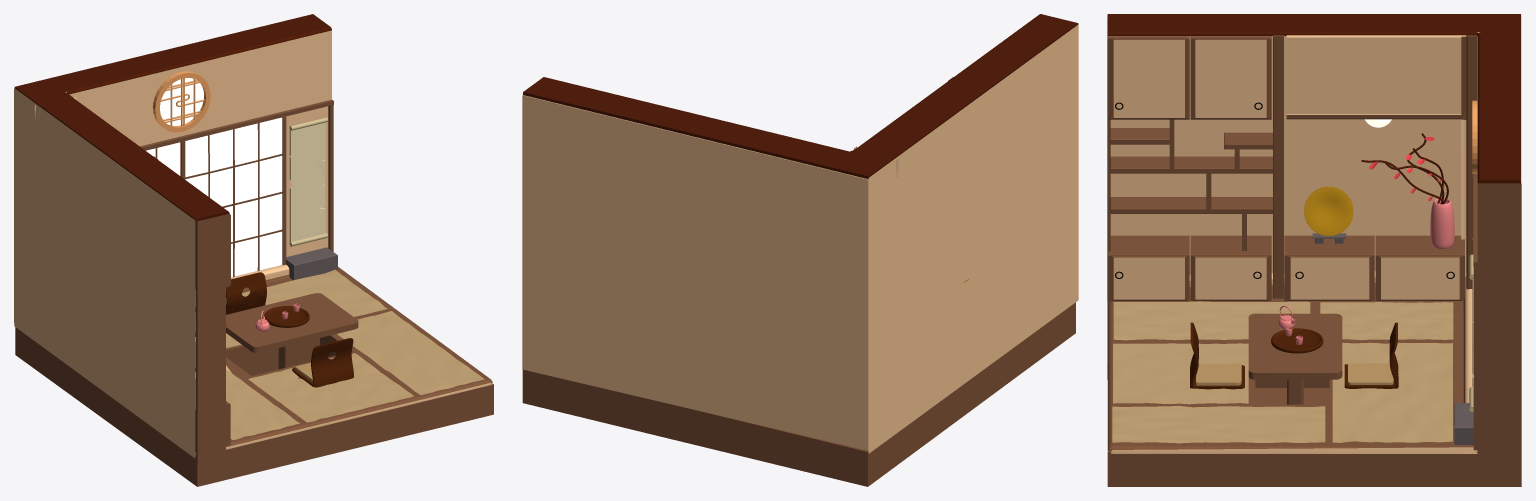
Rendered from japanese_tatami_room.glb.
The picture shows the model from 3 angles, left to right: view 1: azimuth 30°, elevation 25°; view 2: azimuth 150°, elevation 25°; view 3: azimuth 270°, elevation 25°; orthographic projection. The views are drawn at different scales.
Parts seen in each view (by area): view 1: Cube_0, Plane.006_100, Plane.005_46, Cube.018_51, Cube.035_41, Plane_22, Plane.004_26, Cube.002_2, Cube.030_19, Plane.002_24, Plane.001_23, Cylinder.006_42 (+10 smaller); view 2: Cube_0, Plane.006_100, Plane.005_46; view 3: Cube_0, Plane.005_46, Cube.022_11, Plane.006_100, Plane.002_24, Cube.019_9, Plane_22, Cube.011_8, Cube.012_31, Plane.004_26, Plane.001_23, Cube.023_39 (+18 smaller).
Boxes of the visible parts, x1=… form: Cube_0: x1=14, y1=30, x2=492, y2=458; Plane.006_100: x1=15, y1=327, x2=493, y2=486; Plane.005_46: x1=14, y1=14, x2=331, y2=221; Cube.018_51: x1=185, y1=117, x2=282, y2=277; Cube.035_41: x1=196, y1=215, x2=225, y2=459; Plane_22: x1=337, y1=311, x2=484, y2=394; Plane.004_26: x1=248, y1=353, x2=413, y2=422; Cube.002_2: x1=226, y1=293, x2=358, y2=352; Cube.030_19: x1=289, y1=122, x2=325, y2=241; Plane.002_24: x1=195, y1=269, x2=387, y2=347; Plane.001_23: x1=195, y1=369, x2=299, y2=439; Cylinder.006_42: x1=153, y1=71, x2=210, y2=132; Cube_0: x1=522, y1=24, x2=1078, y2=453; Plane.006_100: x1=522, y1=302, x2=1075, y2=486; Plane.005_46: x1=523, y1=14, x2=1078, y2=179; Cube_0: x1=1107, y1=15, x2=1521, y2=453; Plane.005_46: x1=1107, y1=14, x2=1520, y2=183; Cube.022_11: x1=1286, y1=35, x2=1466, y2=119; Plane.006_100: x1=1107, y1=302, x2=1521, y2=486; Plane.002_24: x1=1332, y1=342, x2=1452, y2=442; Cube.019_9: x1=1110, y1=119, x2=1272, y2=250; Plane_22: x1=1112, y1=405, x2=1325, y2=443; Cube.011_8: x1=1107, y1=20, x2=1189, y2=119; Cube.012_31: x1=1190, y1=36, x2=1271, y2=119; Plane.004_26: x1=1113, y1=343, x2=1248, y2=404; Plane.001_23: x1=1113, y1=301, x2=1310, y2=340; Cube.023_39: x1=1284, y1=235, x2=1374, y2=300.
Size of what is drawn, in the model's own units: 15.06 by 12.98 by 15.77.
Materials: 17 (2 with a texture image).
